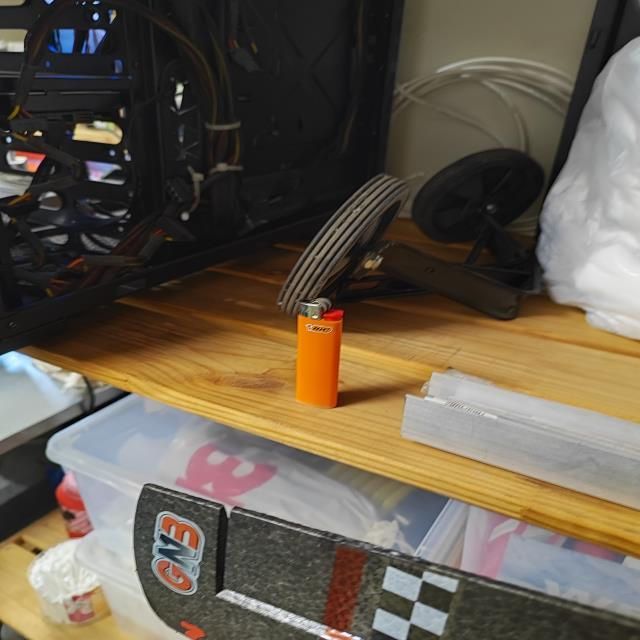lighter: (295, 299, 343, 407)
